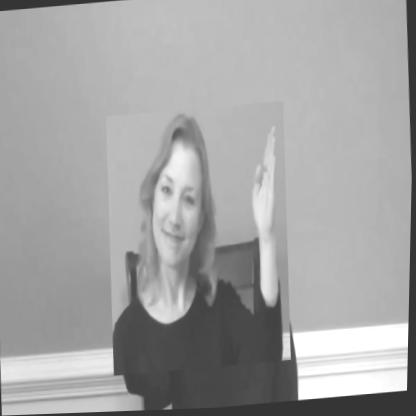Hello: (101, 102, 297, 377)
